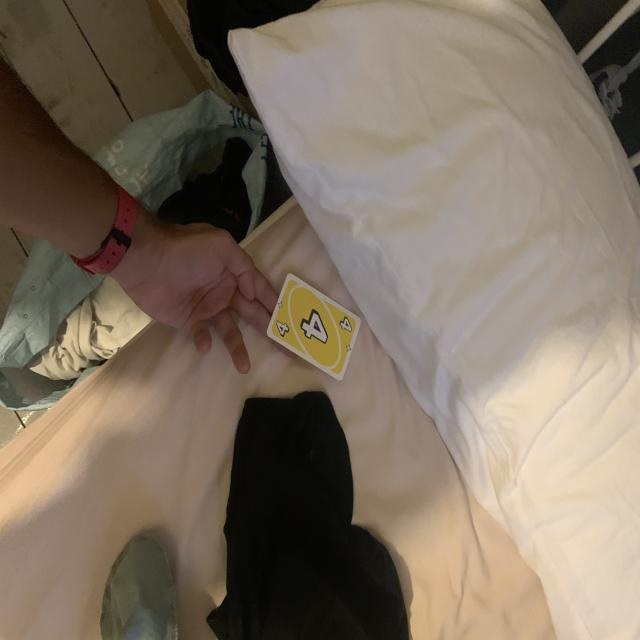lyellow-4: (271, 313, 294, 342)
